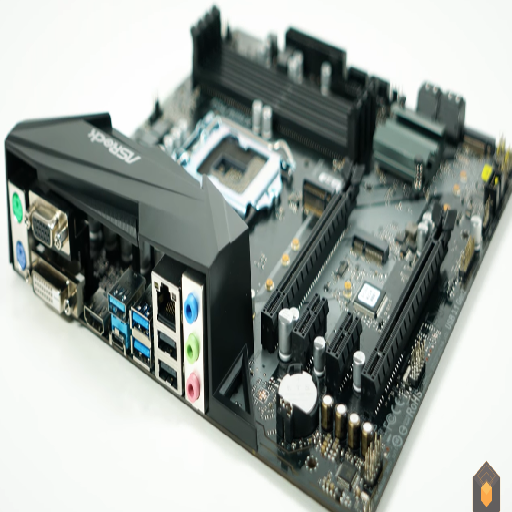CPU: (168, 107, 295, 222)
GPU: (357, 205, 465, 396), (260, 169, 362, 351)
MOTHERBOARD: (4, 2, 512, 511)
RAM: (189, 6, 377, 167)
SSD: (297, 170, 345, 221), (350, 229, 389, 264)
